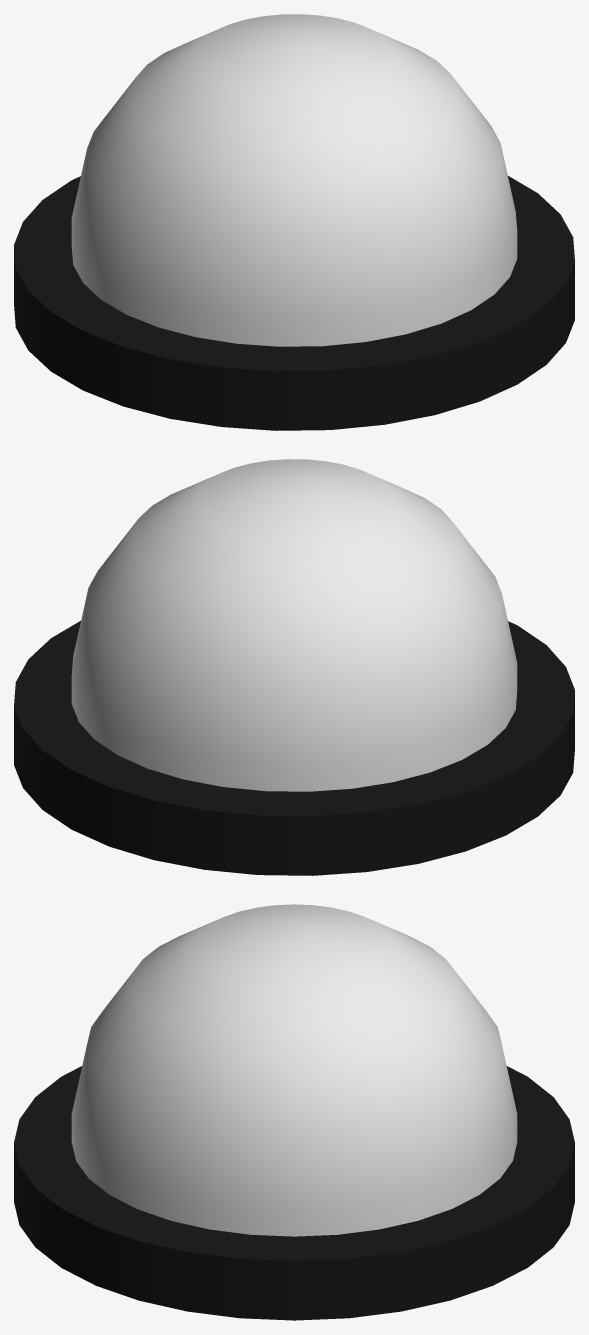
Rendered from lumiere.fbx.
3 renders of one model, top to bottom at view 1: azimuth 30°, elevation 25°; view 2: azimuth 150°, elevation 25°; view 3: azimuth 270°, elevation 25°, orthographic.
Visible parts, largest first — view 1: Circle.001, Circle; view 2: Circle.001, Circle; view 3: Circle.001, Circle.
Part boxes in pixels (<box>): Circle.001: <box>71,14,517,346</box>; Circle: <box>14,176,574,430</box>; Circle.001: <box>71,459,517,791</box>; Circle: <box>14,621,574,875</box>; Circle.001: <box>71,904,517,1236</box>; Circle: <box>14,1066,574,1320</box>.
Bounding box in the file's own units: 200 × 106 × 200.
Materials: 1 (1 with a texture image).
